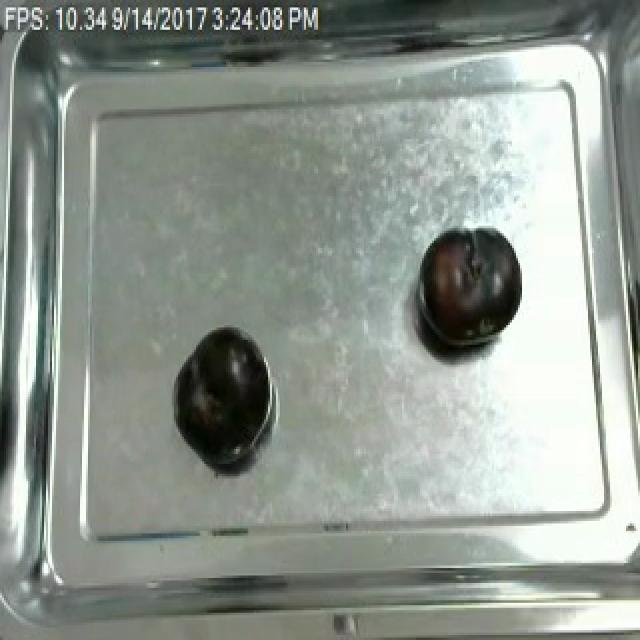Fruit: (416, 224, 524, 352), (172, 325, 270, 464)
